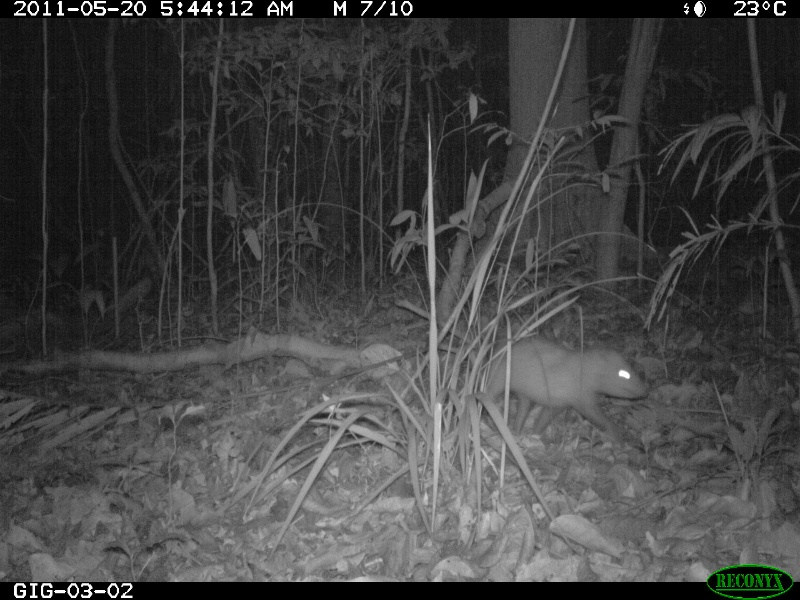opossum: (332, 337, 655, 430)
